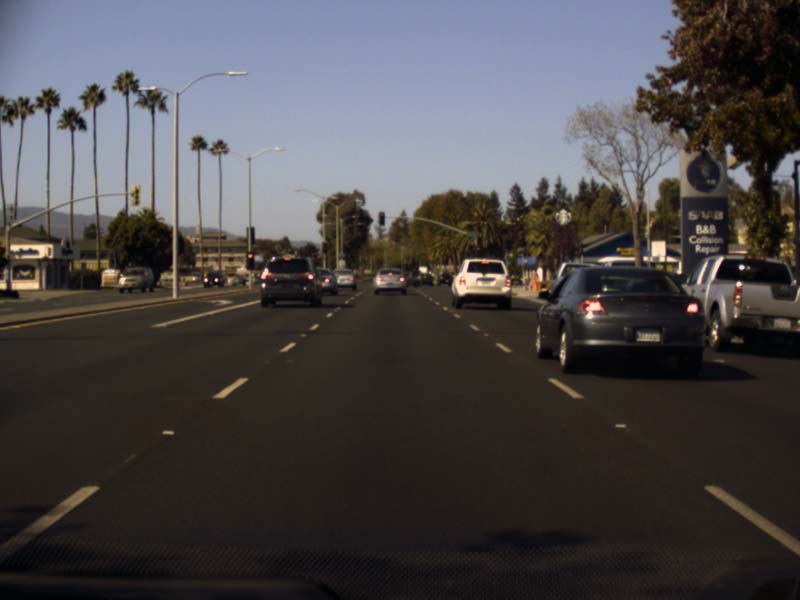Red: (246, 252, 253, 268), (379, 212, 383, 224)
